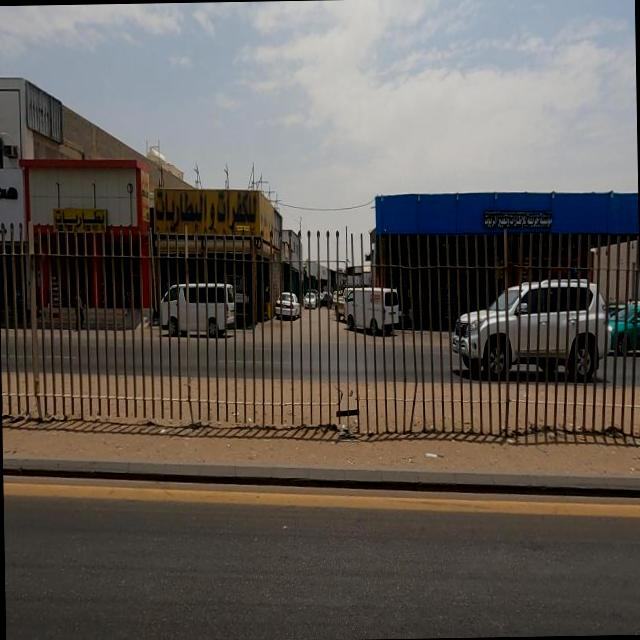debris: (114, 148, 300, 272)
